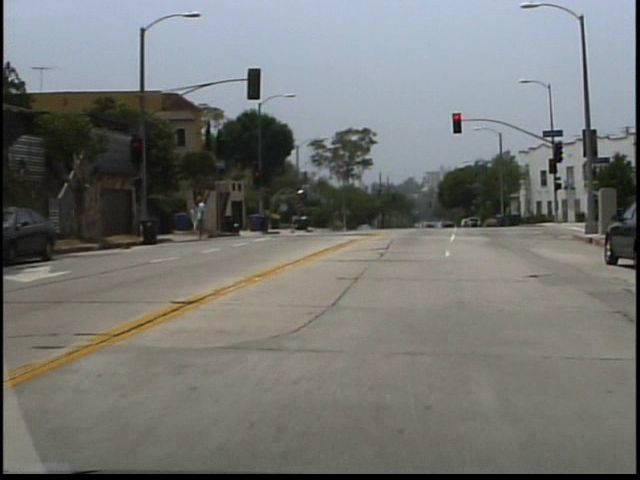person: (200, 196, 217, 241), (195, 203, 205, 237)
